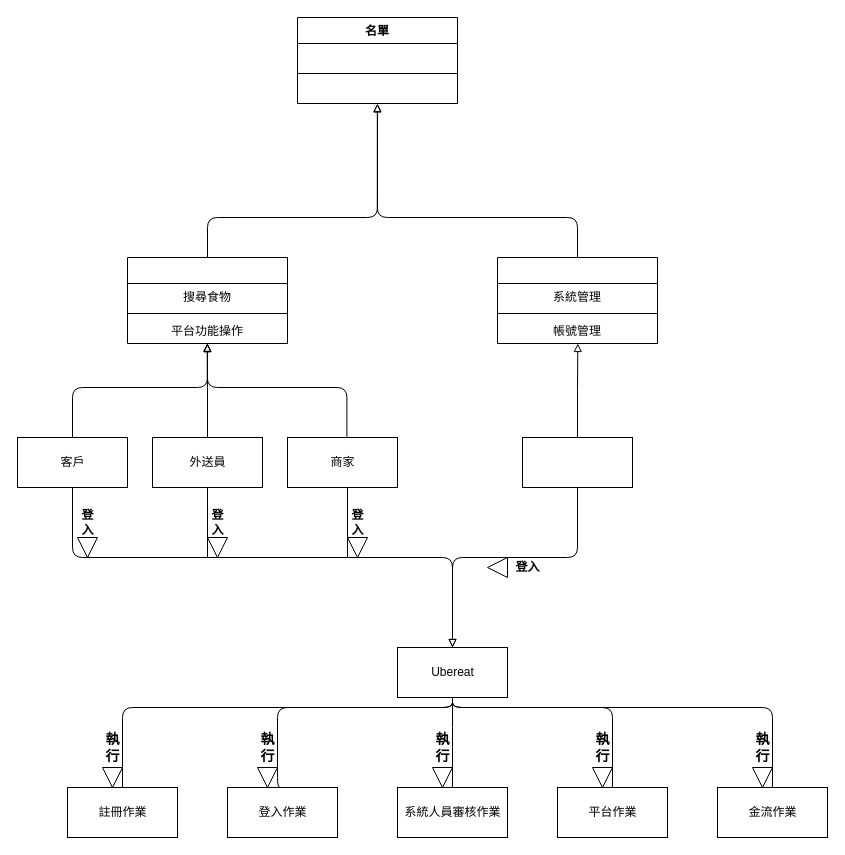
Image size: 845x855. Some labels were removed from this diagram. The shapes that lost their labels are listed below. From the top down, each one's box as (x1, y1, x2, y2) in pixels, then its label:
(126, 256, 288, 344): 一般人員
(496, 256, 658, 344): 管理人員
(522, 436, 632, 488): 系統人員
